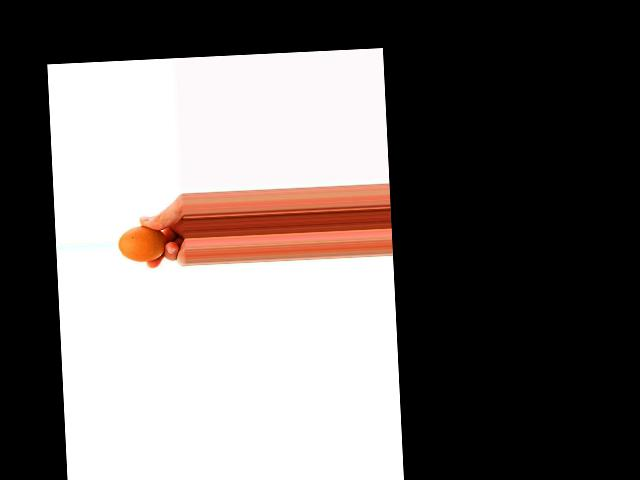egg: (117, 225, 166, 263)
